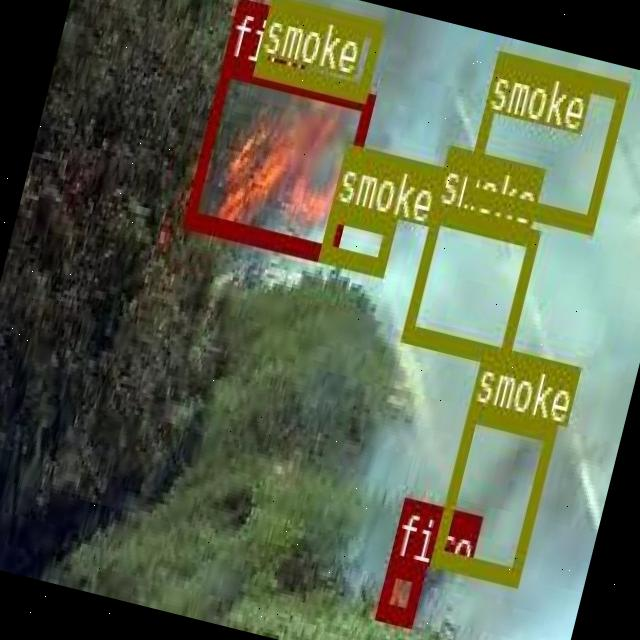fire: (180, 56, 374, 262), (376, 556, 424, 623)
smoke: (461, 49, 627, 229), (430, 402, 555, 582), (399, 202, 538, 363), (253, 0, 383, 98), (318, 200, 396, 272)
